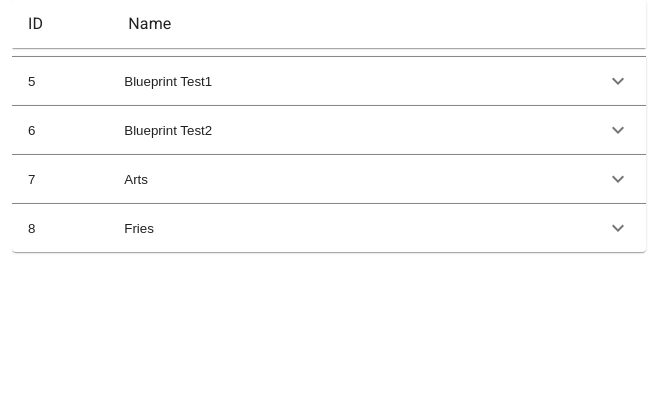
Test: <ViewExistingBlueprintTable /> › renders blueprint content correctly upon clicking
Note: click on the first blueprint
What coordinates should you click on to do the following:
click the button "5 Blueprint Test1"
I would click on:
 (168, 81)
Its box is [12, 57, 646, 105].
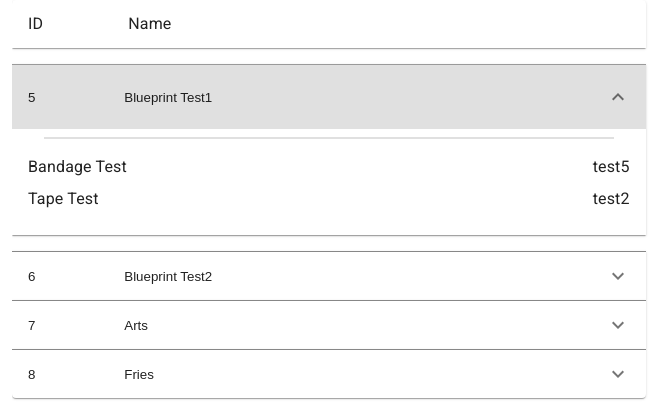
Expected: the text "Bandage Test" is shown, [28, 155, 127, 179]
Expected: the text "Tape Test" is shown, [28, 187, 99, 211]
